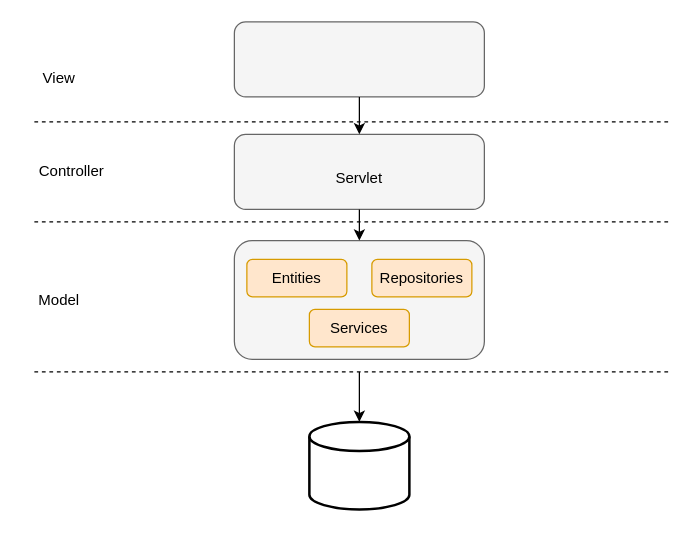
Image size: 695x533. Some labels were removed from this diagram. Here are the shapes that lost their labels. From the top down, the centre of each, then its label:
(x=358, y=59): JSP Templates
(x=359, y=465): MySQL DB
